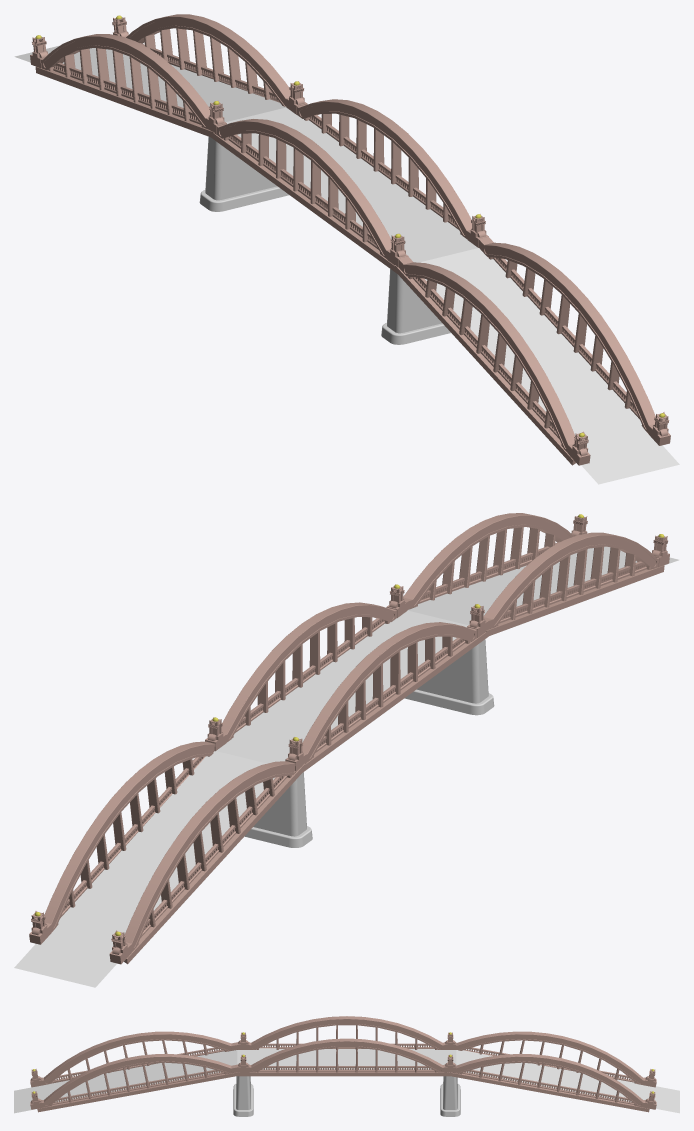
The model's file is yakınçağ_köprü.fbx.
3 renders of one model, top to bottom at view 1: azimuth 30°, elevation 25°; view 2: azimuth 150°, elevation 25°; view 3: azimuth 270°, elevation 25°, orthographic. The views are drawn at different scales.
Parts seen in each view (by area): view 1: Object_7, Plane.001, Plane.002, Object_14; view 2: Object_7, Plane.001, Plane.002, Object_14; view 3: Object_7, Plane.001, Plane.002, Object_14.
Part boxes in pixels (x1,y1,x2,y2): Object_7: (30, 14, 670, 465); Plane.001: (14, 45, 679, 484); Plane.002: (226, 107, 477, 262); Object_14: (199, 137, 450, 344); Object_7: (29, 513, 669, 964); Plane.001: (14, 546, 678, 987); Plane.002: (216, 610, 467, 763); Object_14: (244, 639, 494, 847); Object_7: (30, 1016, 656, 1112); Plane.001: (14, 1050, 679, 1113); Plane.002: (237, 1048, 456, 1069); Object_14: (233, 1076, 460, 1116).
Size of the model in its own units: 4904 by 5850 by 47861.
